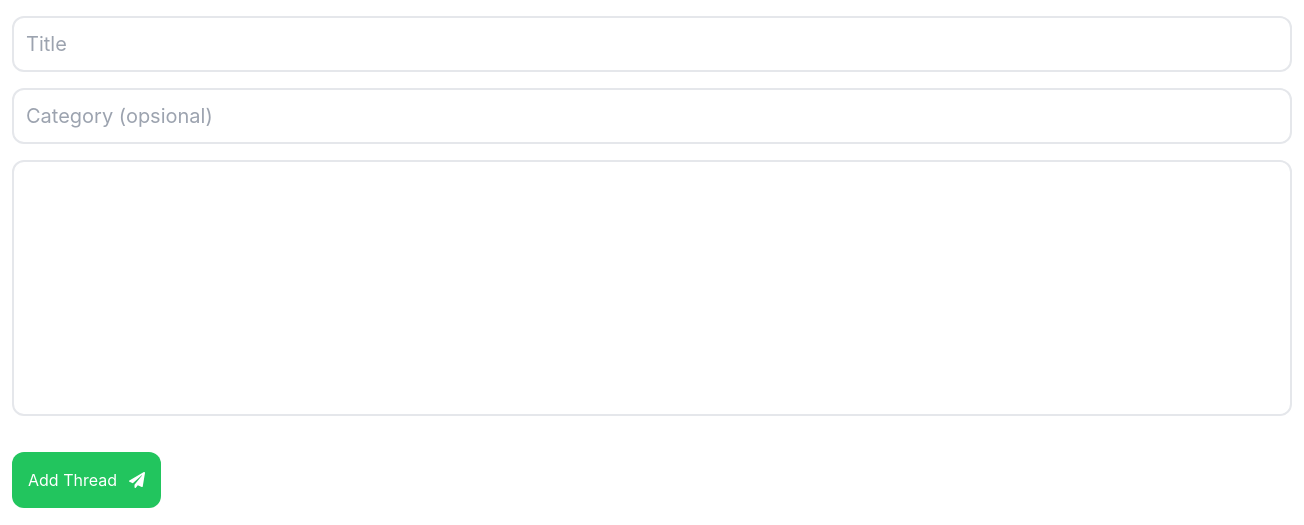
InputThread component › should handle body typing correctly
Click the text box with test id "input-body": (652, 288) top-left (12, 160), bottom-right (1292, 416)
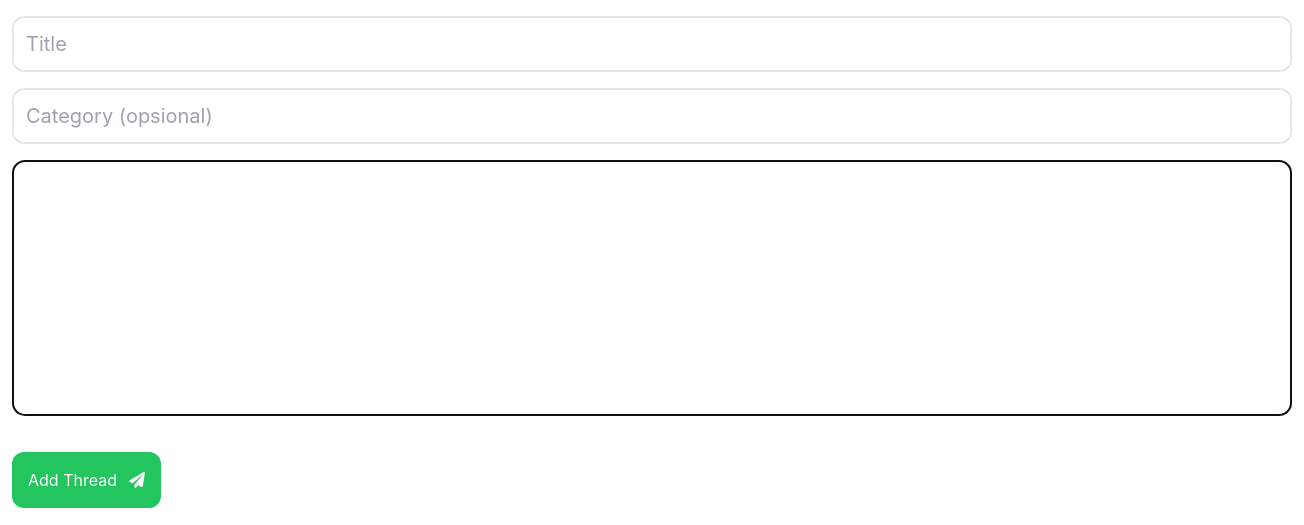
Type keys "bodytest"
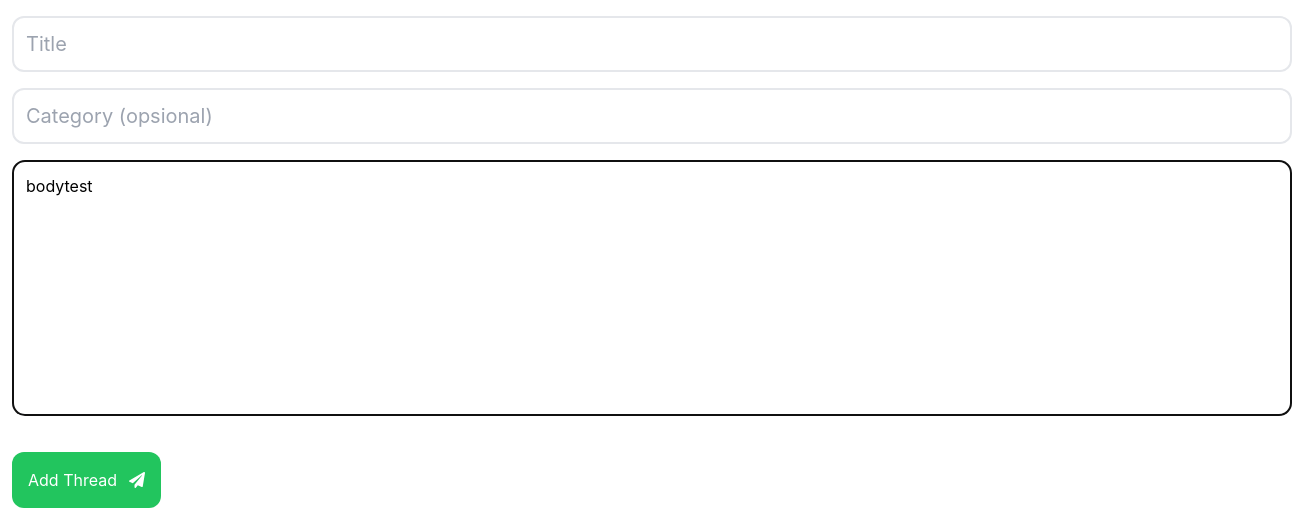
Expected: the text box with test id "input-body" reads "bodytest", top-left (12, 160), bottom-right (1292, 416)
